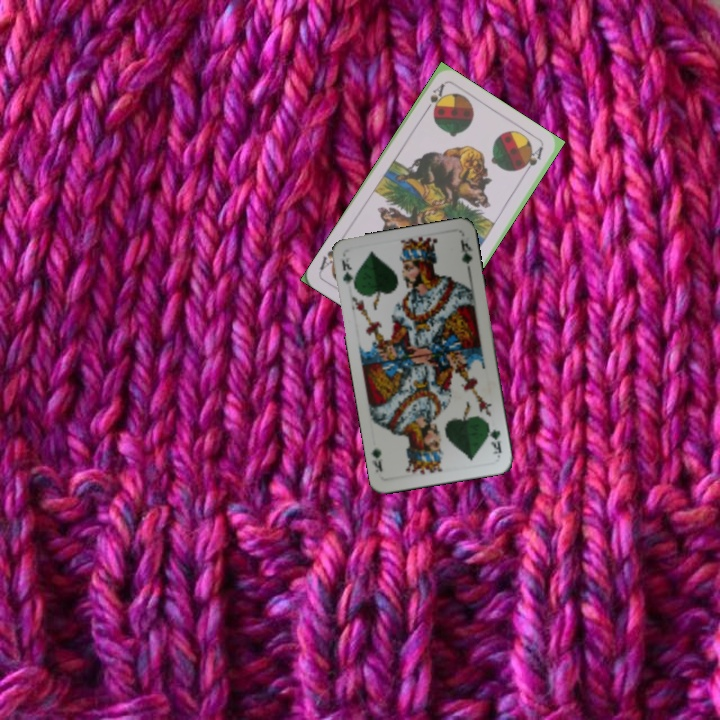GK: (338, 253, 359, 292), (487, 425, 504, 458)
SA: (420, 80, 447, 117)
